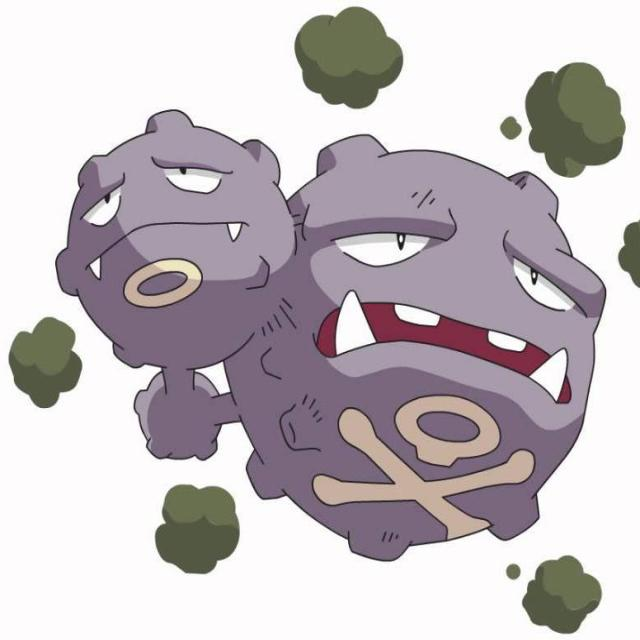Weezing: (53, 106, 610, 555)
